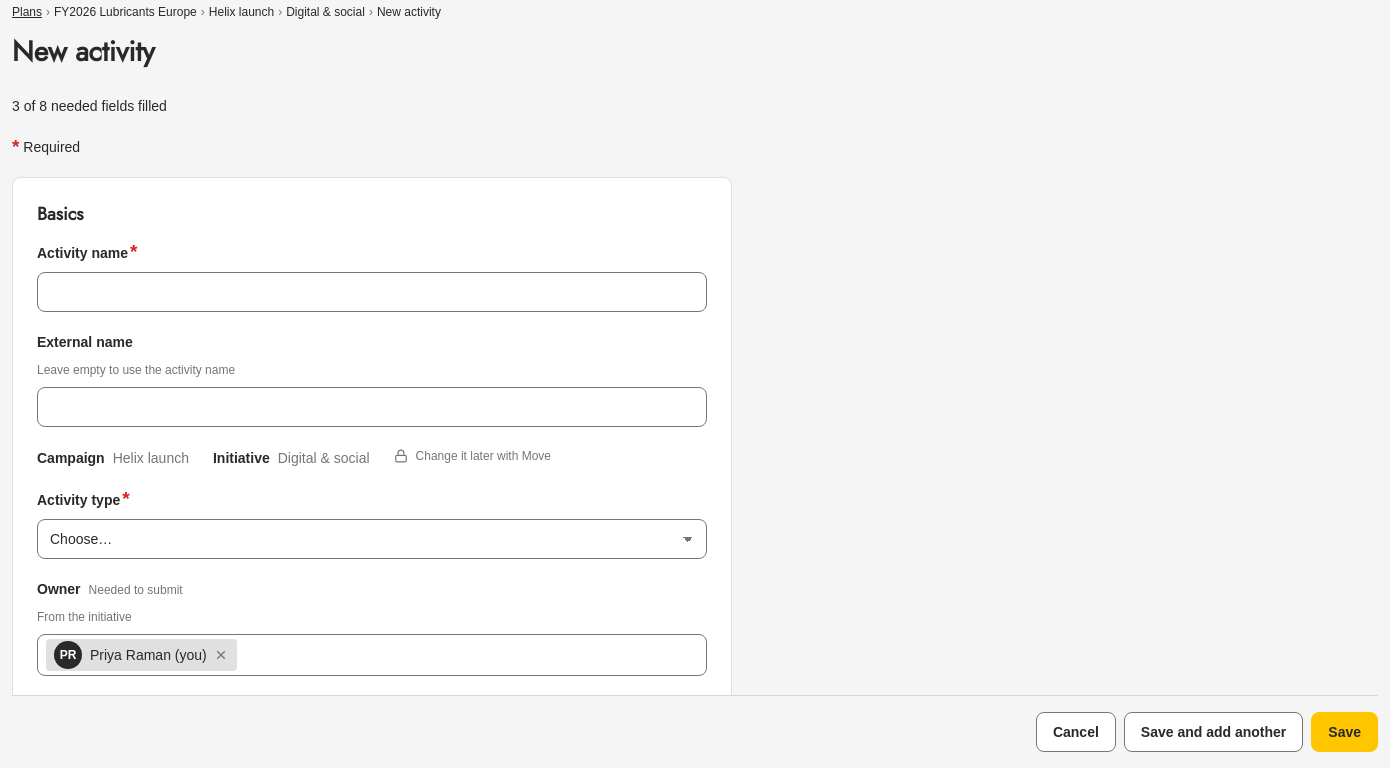
ActivityFormPage, new activity (feature 006, US1) › offers the allowed types with their default costs, and Event fills its 25,000.00 (FR-007)
Select "Event · default 25,000.00 USD" in the dropdown labelled "Activity type" at (372, 539), box [37,519,707,559]
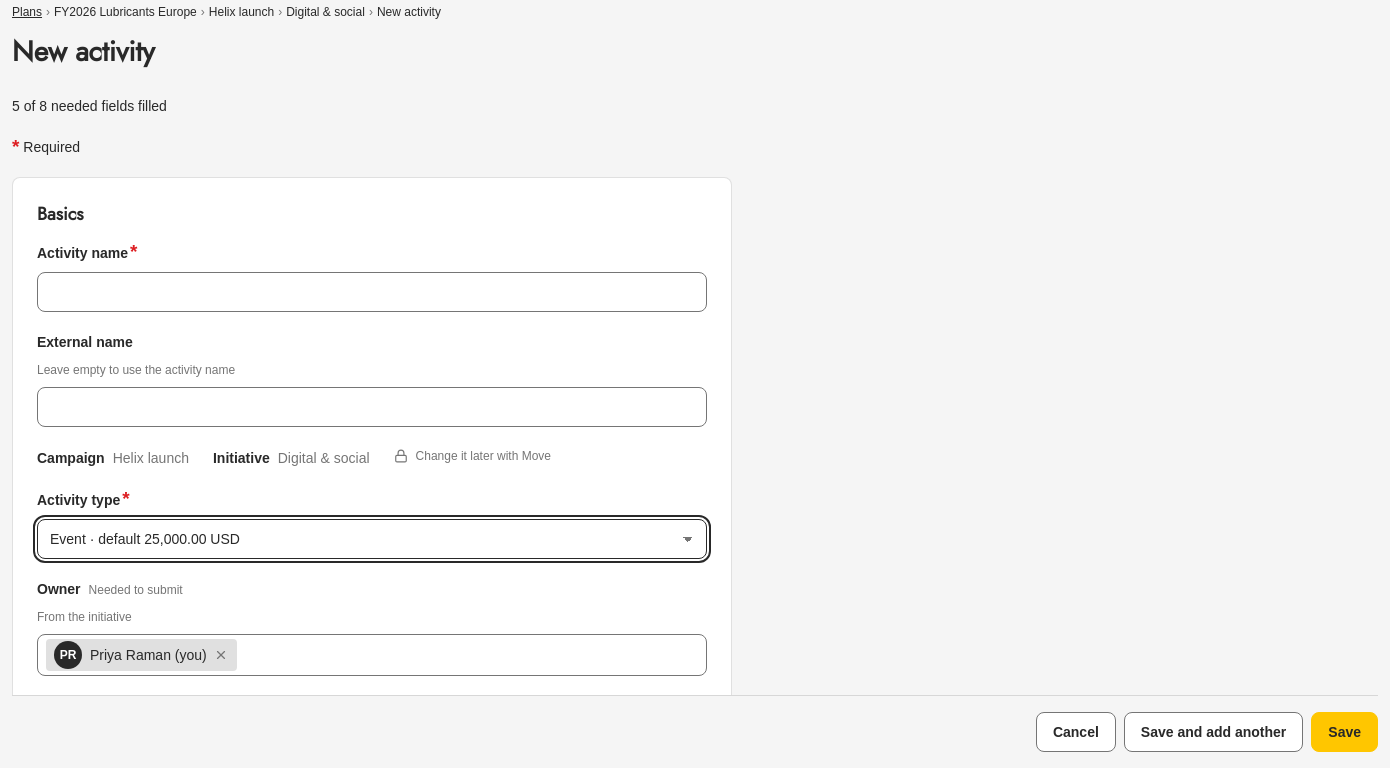
// Another type replaces a default it filled in itself, without asking.
Select "Digital campaign · default 10,000.00 USD" in the dropdown labelled "Activity type" at (372, 539), box [37,519,707,559]
(page scrolled)
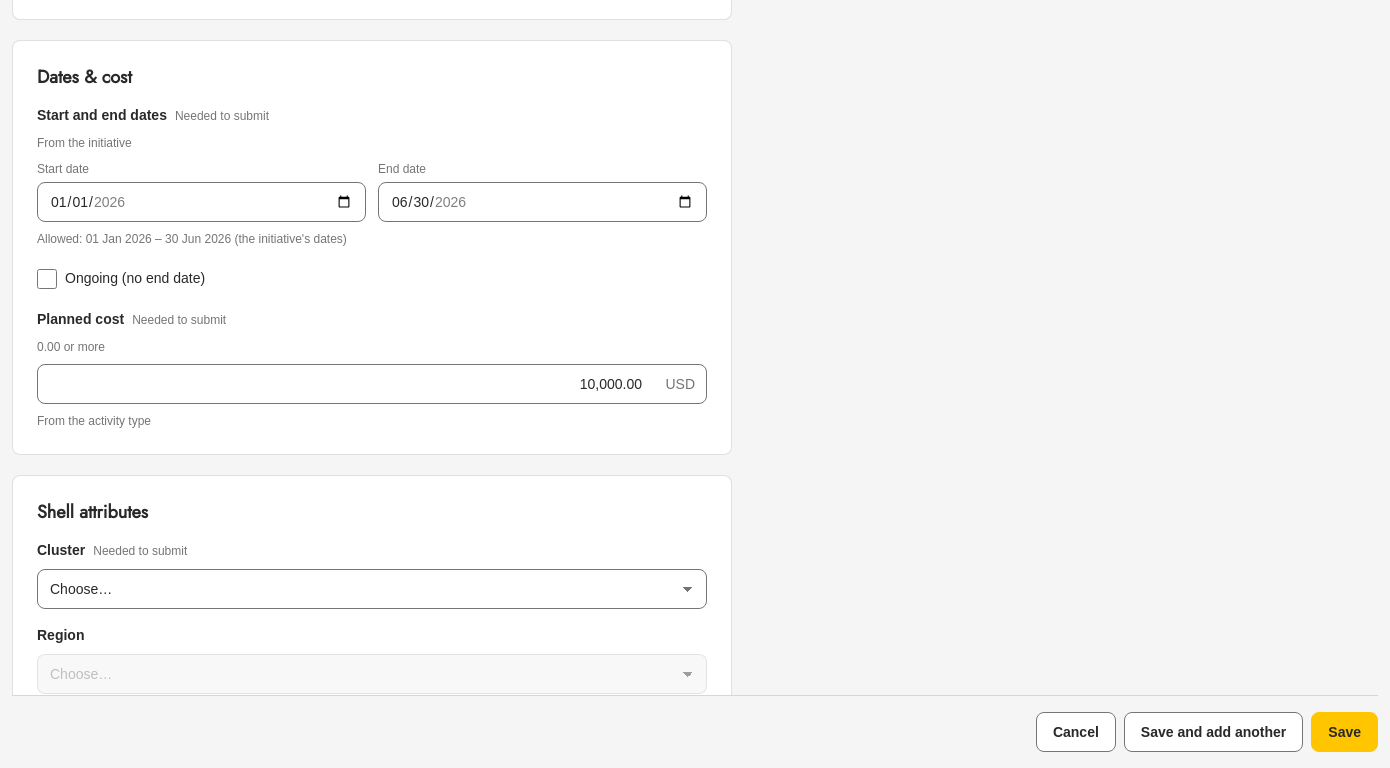
Expected: the field labelled "Planned cost" holds "10,000.00", [37,364,707,404]
